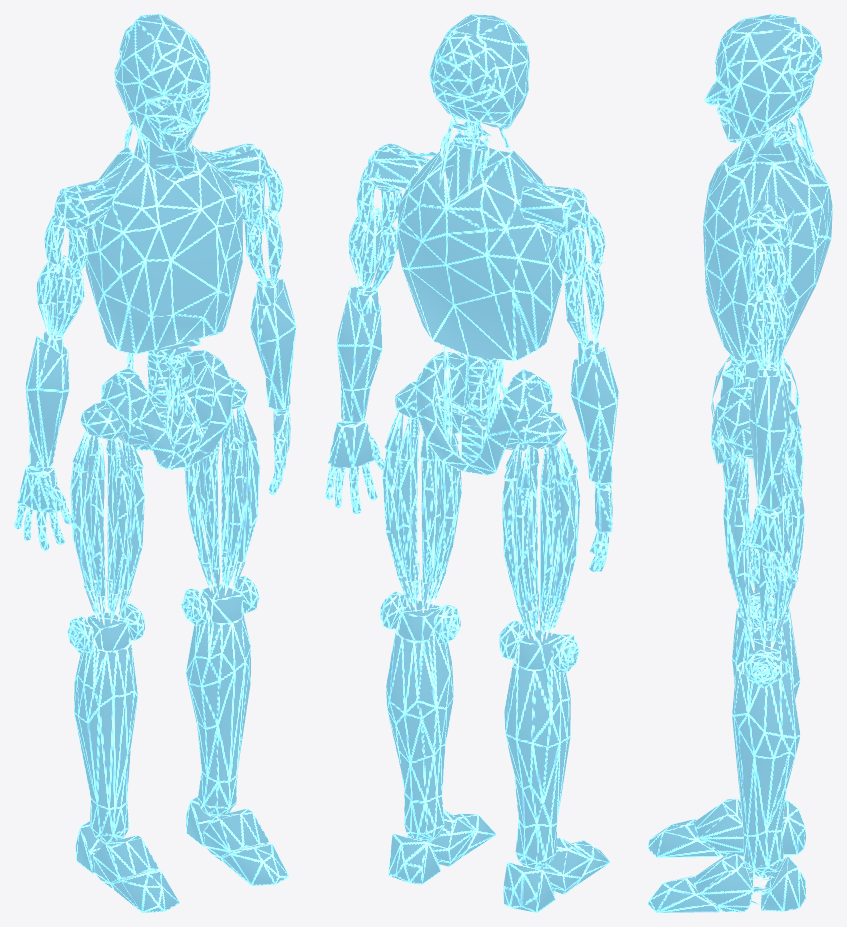
The model's file is robot.gltf.
3 renders of one model, left to right at view 1: azimuth 30°, elevation 25°; view 2: azimuth 150°, elevation 25°; view 3: azimuth 270°, elevation 25°, orthographic. The views are drawn at different scales.
Visible parts, largest first — view 1: robot; view 2: robot; view 3: robot.
Part boxes in pixels (x1,y1,x2,y2): robot: (14,14,296,912); robot: (325,14,618,912); robot: (647,14,832,912).
Size of the model in its own units: 3.38 by 9.85 by 1.94.
1 material, 1 textured.
